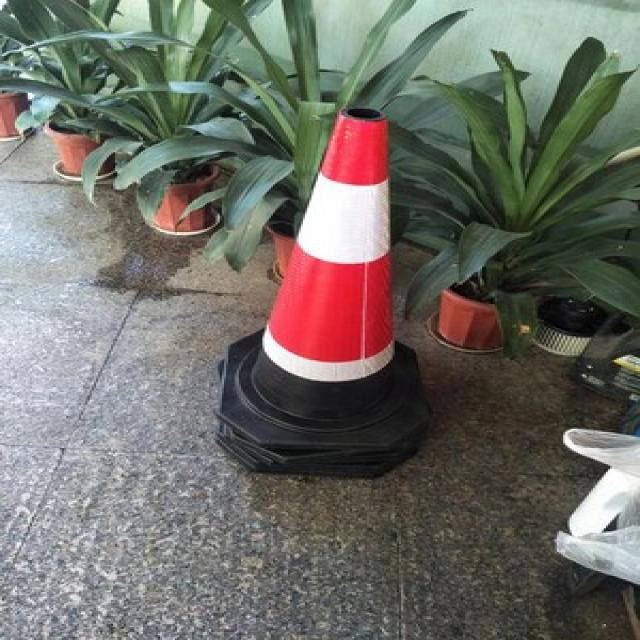reflective_cone: (213, 106, 431, 447)
